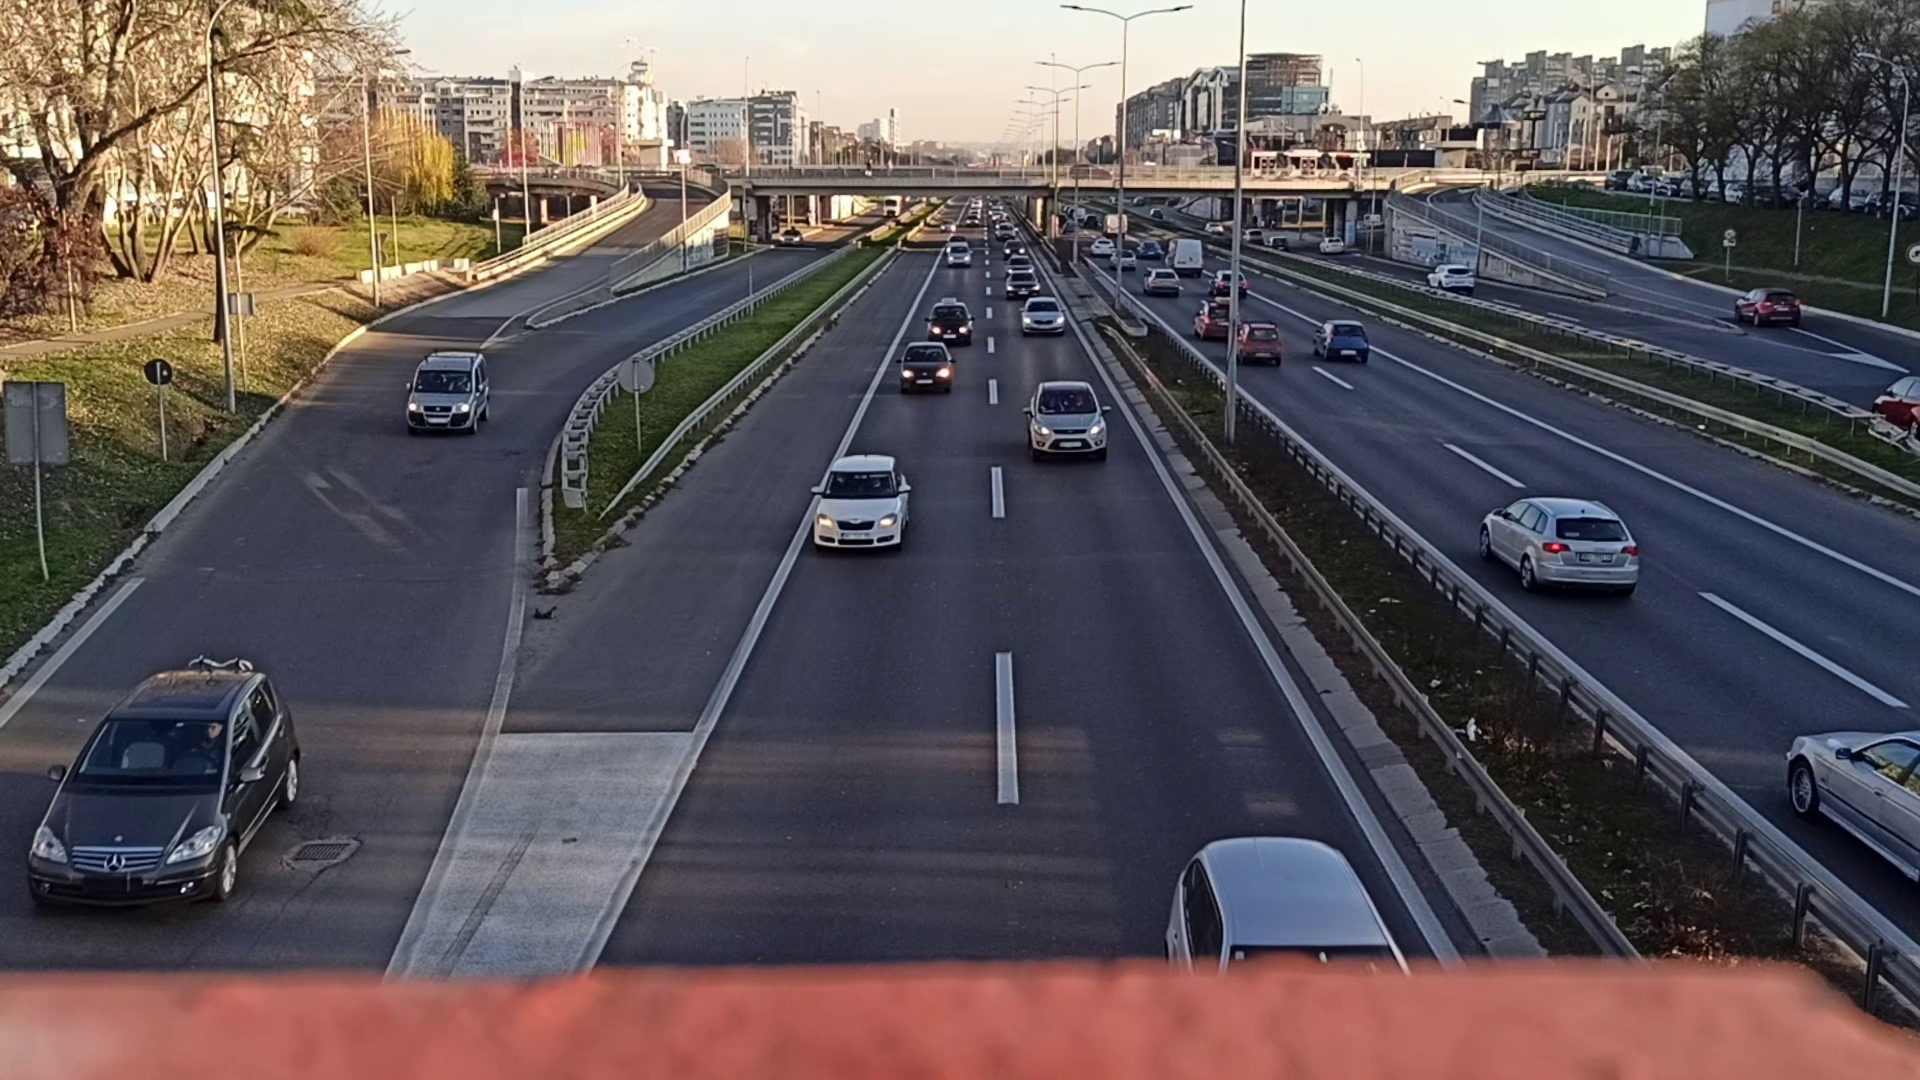car: (25, 663, 303, 924), (1478, 492, 1644, 605), (814, 454, 915, 558), (1027, 378, 1109, 459), (899, 340, 953, 396), (1313, 318, 1367, 364), (1234, 320, 1284, 365), (927, 299, 973, 343), (1021, 295, 1065, 334), (1142, 266, 1185, 295), (1005, 273, 1039, 299), (948, 244, 971, 266)
van: (406, 351, 492, 436)
